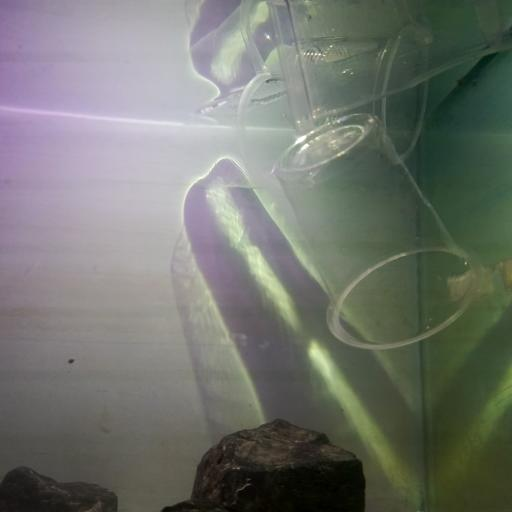plastic_cup: (273, 112, 484, 351), (268, 3, 512, 136), (282, 25, 430, 163), (180, 71, 312, 191)
